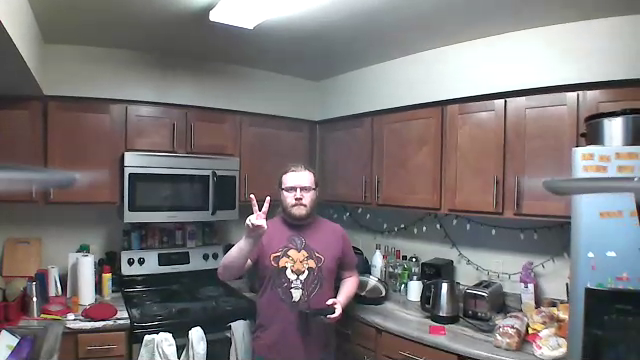peace: (243, 192, 275, 235)
